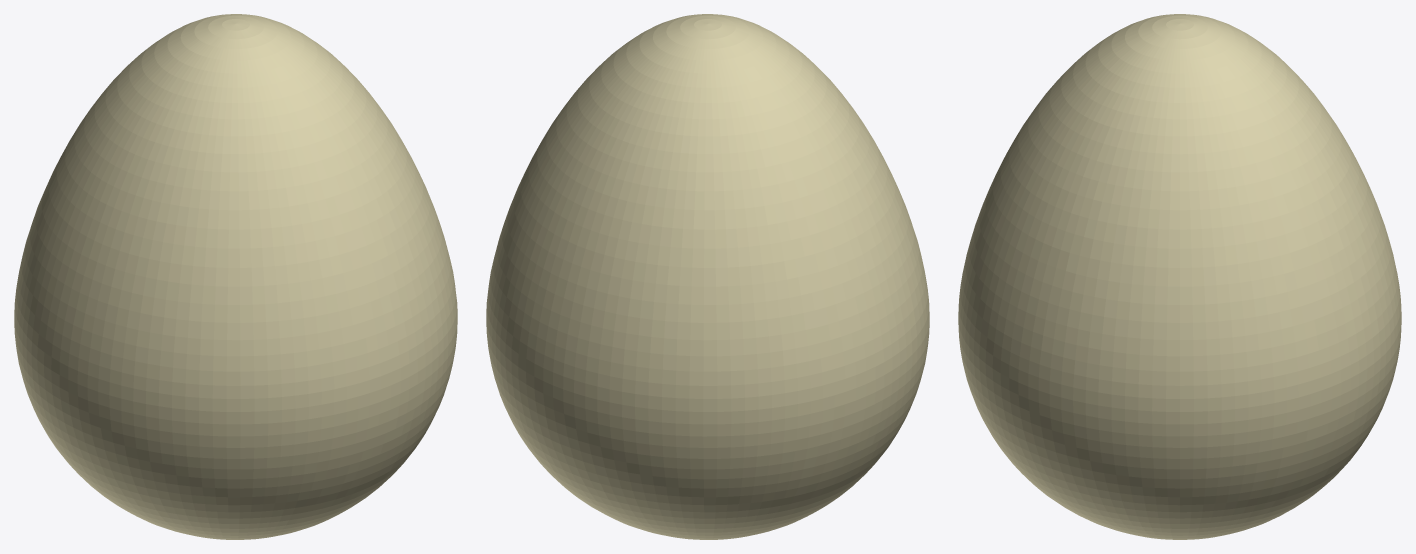
Rendered from eggDraco.gltf.
3 renders of one model, left to right at view 1: azimuth 30°, elevation 25°; view 2: azimuth 150°, elevation 25°; view 3: azimuth 270°, elevation 25°, orthographic.
Visible parts, largest first — view 1: Sphere; view 2: Sphere; view 3: Sphere.
Part boxes in pixels (x1,y1,x2,y2): Sphere: (14, 14, 457, 539); Sphere: (486, 14, 929, 539); Sphere: (958, 14, 1401, 539).
Size of the model in its own units: 2 by 2.46 by 2.
